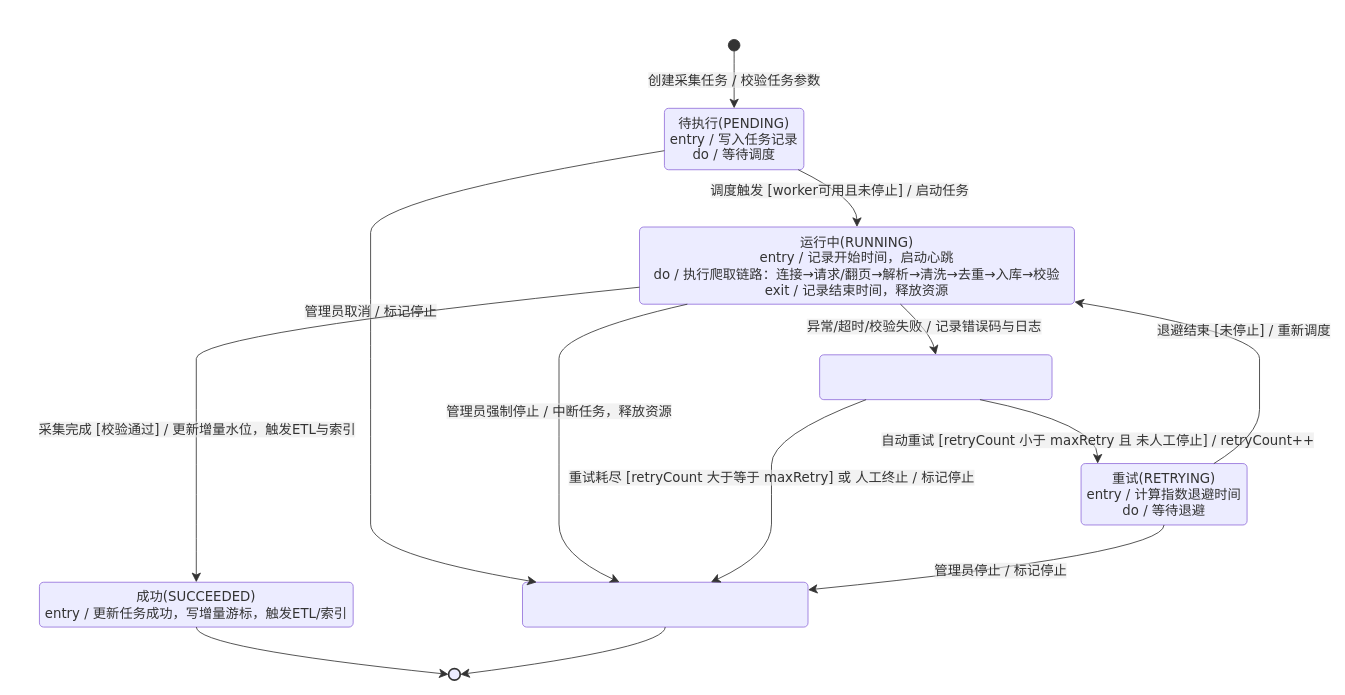
Image size: 1345x695. Some labels were removed from this diagram. Each missing label, with the centre of its shape:
失败(FAILED) entry / 记录错误码、错误信息、堆栈: (x=935, y=377)
已停止(STOPPED) entry / 标记停止原因，写审计日志，释放资源: (x=665, y=604)
